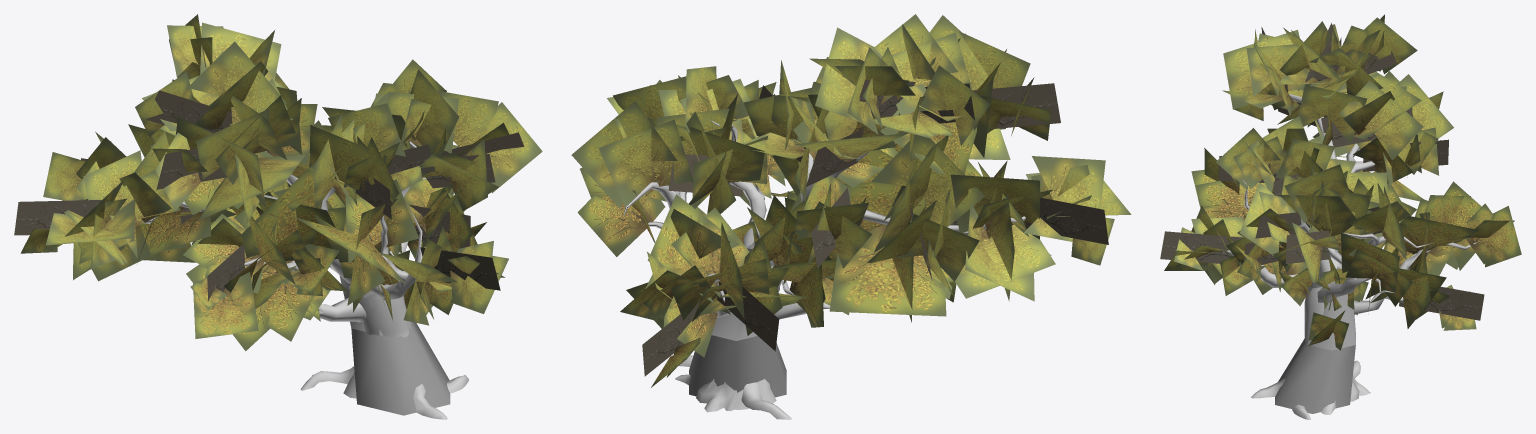
File: JiaYeSiWai1_GuaiShuHuang_1.FBX
3 views of the same model, side by side, from view 1: azimuth 30°, elevation 25°; view 2: azimuth 150°, elevation 25°; view 3: azimuth 270°, elevation 25° (orthographic). The views are drawn at different scales.
Parts seen in each view (by area): view 1: JiaYeSiWai1_GuaiShuHuang_1a, JiaYeSiWai1_GuaiShuHuang_1_Xzm, JiaYeSiWai1_GuaiShuHuang_1b; view 2: JiaYeSiWai1_GuaiShuHuang_1a, JiaYeSiWai1_GuaiShuHuang_1b, JiaYeSiWai1_GuaiShuHuang_1_Xzm; view 3: JiaYeSiWai1_GuaiShuHuang_1a, JiaYeSiWai1_GuaiShuHuang_1_Xzm, JiaYeSiWai1_GuaiShuHuang_1b.
Part boxes in pixels (x1=…): JiaYeSiWai1_GuaiShuHuang_1a: x1=14, y1=14, x2=542, y2=351; JiaYeSiWai1_GuaiShuHuang_1_Xzm: x1=339, y1=276, x2=450, y2=415; JiaYeSiWai1_GuaiShuHuang_1b: x1=143, y1=141, x2=468, y2=419; JiaYeSiWai1_GuaiShuHuang_1a: x1=571, y1=14, x2=1131, y2=387; JiaYeSiWai1_GuaiShuHuang_1b: x1=623, y1=120, x2=1025, y2=419; JiaYeSiWai1_GuaiShuHuang_1_Xzm: x1=689, y1=242, x2=786, y2=397; JiaYeSiWai1_GuaiShuHuang_1a: x1=1160, y1=14, x2=1521, y2=350; JiaYeSiWai1_GuaiShuHuang_1_Xzm: x1=1275, y1=257, x2=1355, y2=413; JiaYeSiWai1_GuaiShuHuang_1b: x1=1226, y1=94, x2=1477, y2=419.
Size of the model in its own units: 1284 by 972 by 1016.
